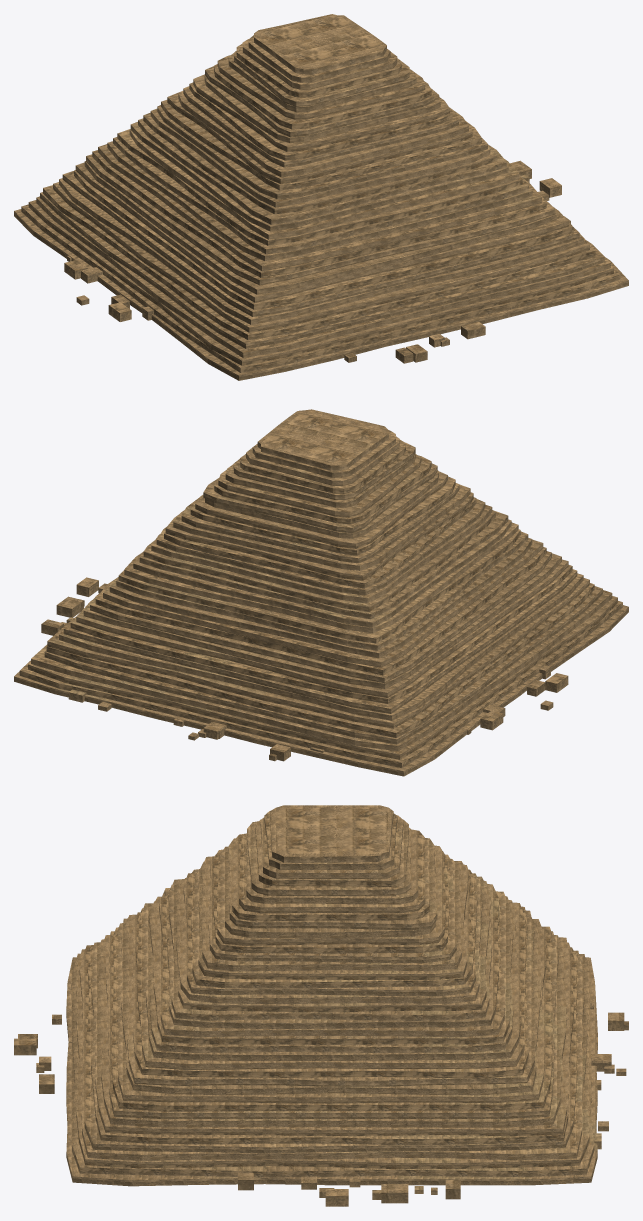
Rendered from giza_g1a.glb.
3 renders of one model, top to bottom at view 1: azimuth 30°, elevation 25°; view 2: azimuth 150°, elevation 25°; view 3: azimuth 270°, elevation 25°, orthographic. The views are drawn at different scales.
Parts seen in each view (by area): view 1: g1a; view 2: g1a; view 3: g1a.
Part boxes in pixels (<box>): g1a: <box>14,14,628,380</box>; g1a: <box>14,409,628,776</box>; g1a: <box>14,805,628,1206</box>.
Size of the model in its own units: 56.7 by 24 by 55.37.
1 material, 1 textured.
